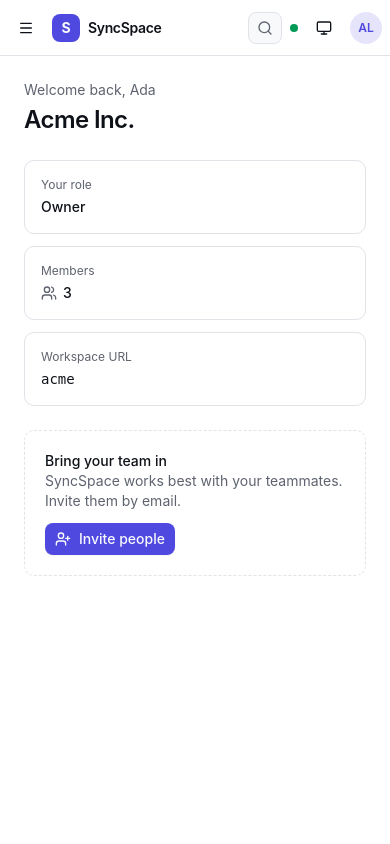
Test case: App shell › opens and closes the mobile navigation drawer
Expected: the heading "Acme Inc." is shown, [24, 105, 134, 134]
Click the button named "Open navigation": (26, 28) [8, 10, 44, 46]
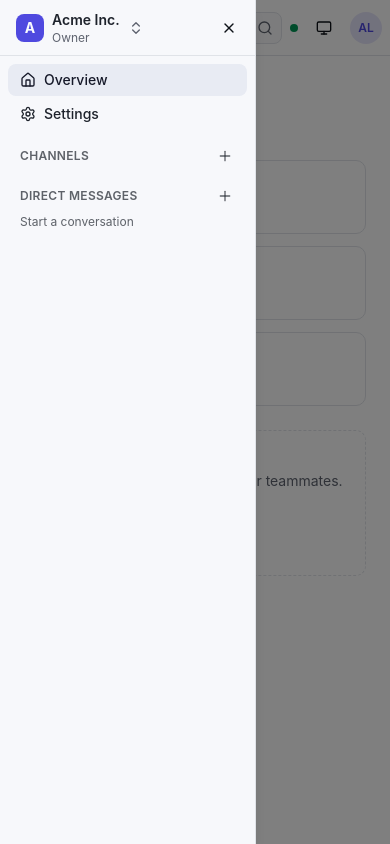
Now the dialog named "Navigation" is shown
Press Escape
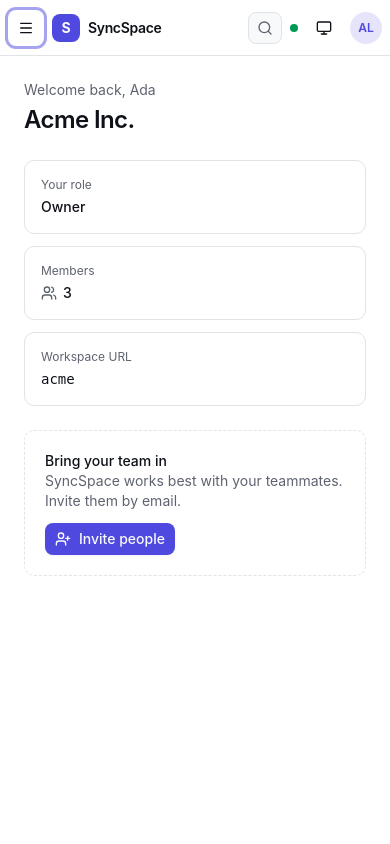
Now the button "Navigation" is gone
